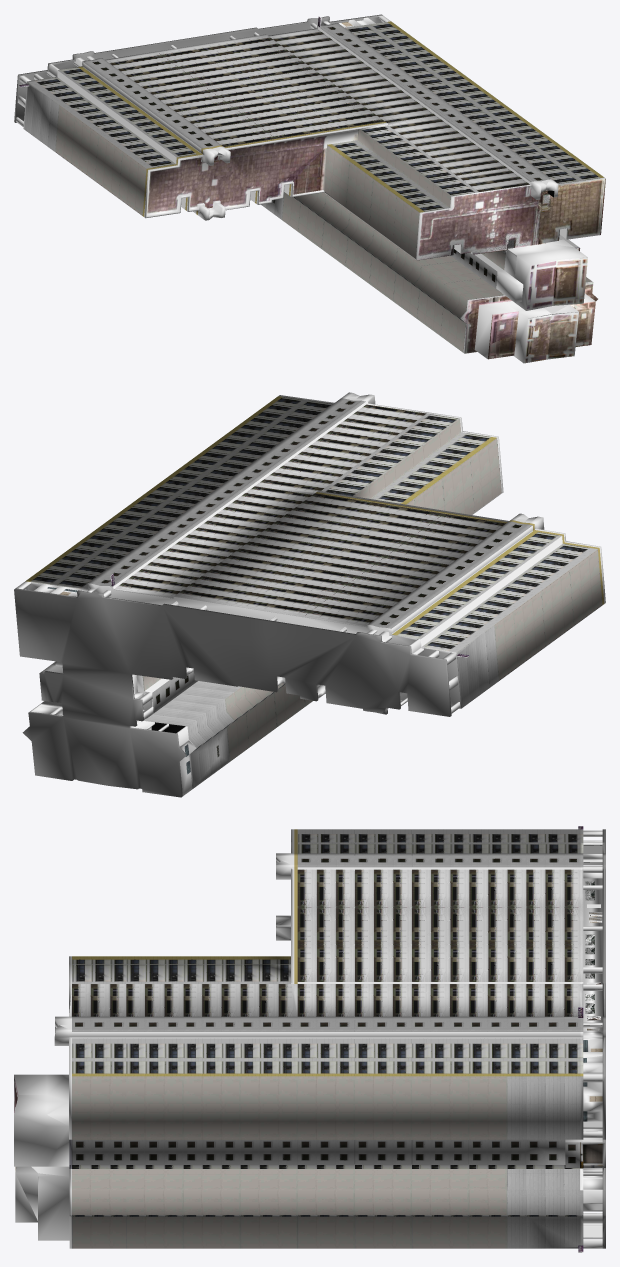
Rendered from amk_blk309a_building.obj.
3 views of the same model, one above another, from view 1: azimuth 30°, elevation 25°; view 2: azimuth 150°, elevation 25°; view 3: azimuth 270°, elevation 25° (orthographic). The views are drawn at different scales.
Visible parts, largest first — view 1: polygon.774; view 2: polygon.774; view 3: polygon.774.
Boxes of the visible parts, x1,y1,x2,y2 form: polygon.774: (14, 14, 605, 363); polygon.774: (14, 392, 605, 797); polygon.774: (14, 826, 605, 1252).
Bounding box in the file's own units: 78.51 × 37.81 × 90.16.
Materials: 1 (1 with a texture image).
